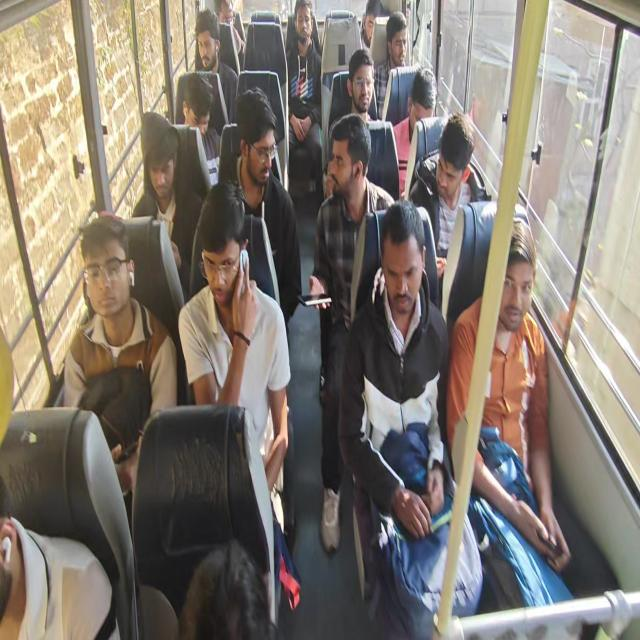person: (337, 198, 483, 638), (446, 217, 576, 631), (177, 182, 292, 532), (308, 112, 396, 554), (62, 211, 178, 532), (216, 86, 302, 336), (0, 474, 119, 639), (131, 112, 203, 299), (409, 112, 476, 300), (178, 539, 272, 639), (324, 48, 379, 198), (284, 0, 323, 199), (191, 8, 238, 136), (392, 66, 437, 196), (176, 71, 222, 187), (372, 10, 409, 120), (329, 48, 378, 127), (213, 0, 244, 69), (359, 0, 384, 50)
